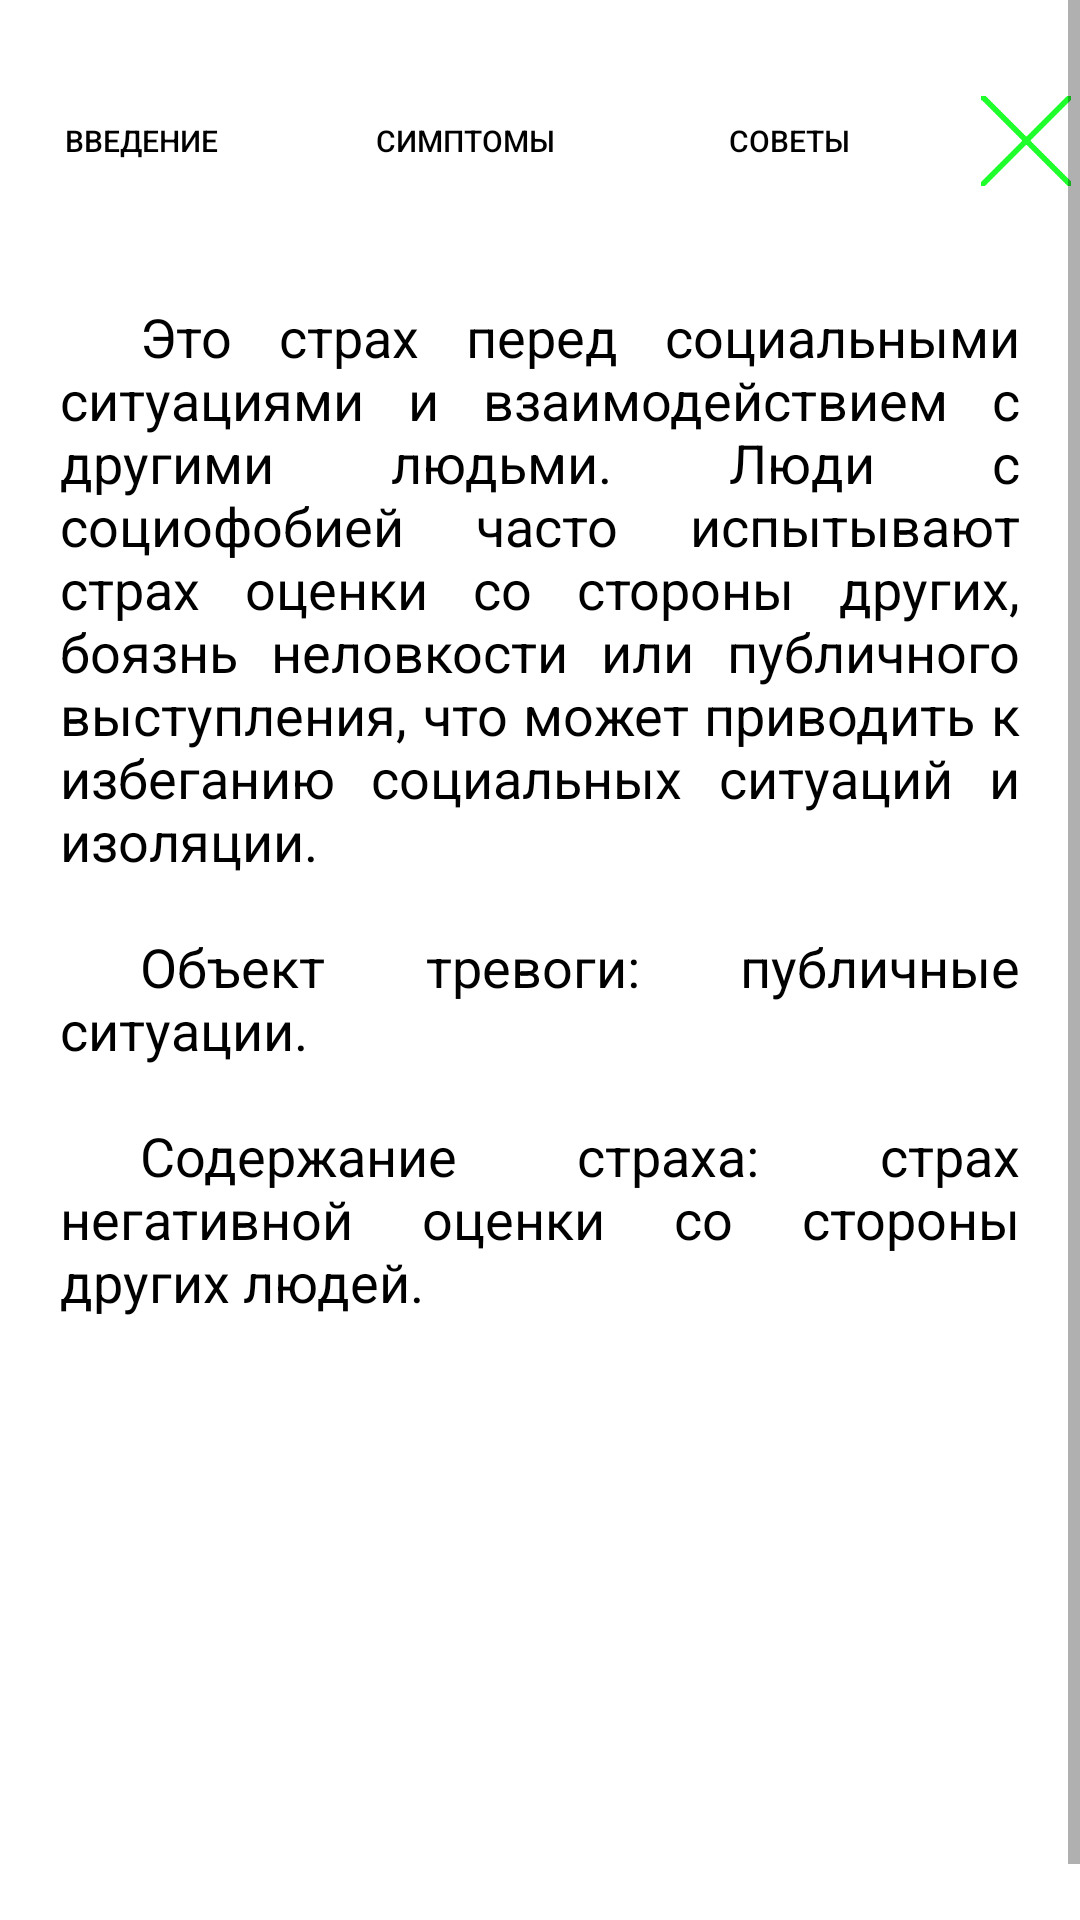

Where to tap for icons on this 1080px x 1920px app screen, as (x=x, y=y):
close: (x=1026, y=141)
